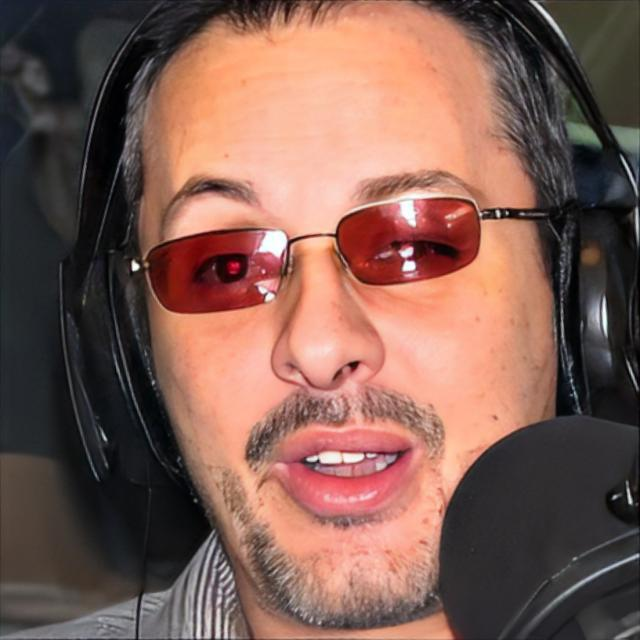surprise: (135, 2, 566, 638)
